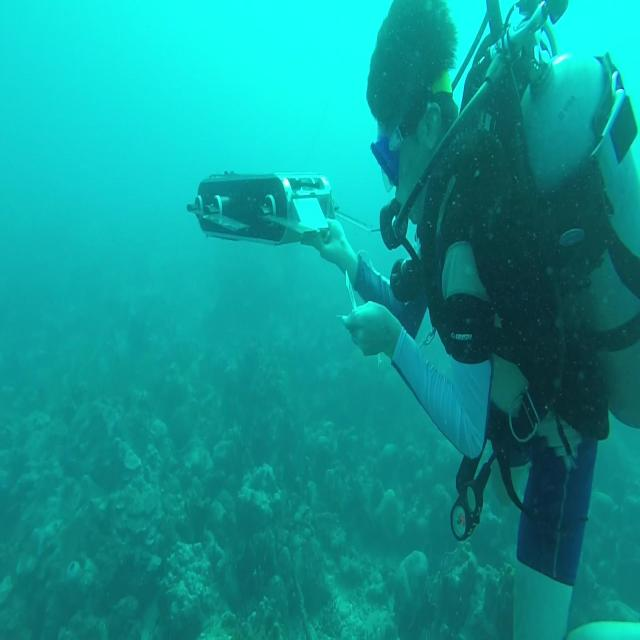human: (304, 1, 638, 637)
